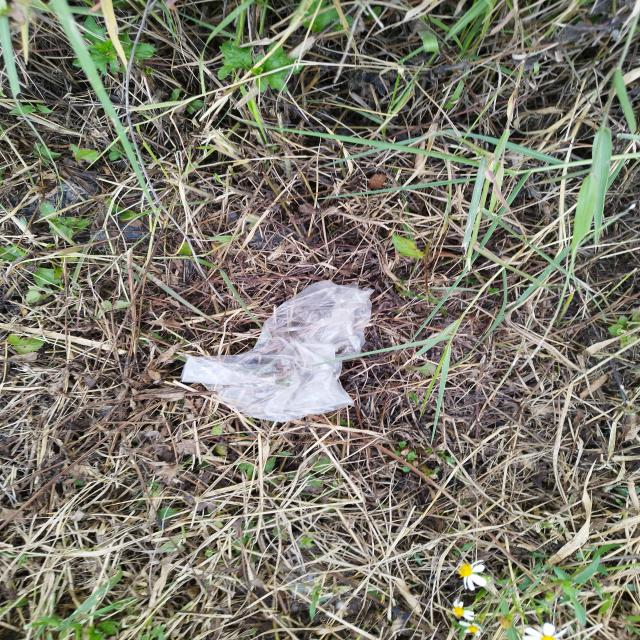bag: (182, 282, 374, 419)
